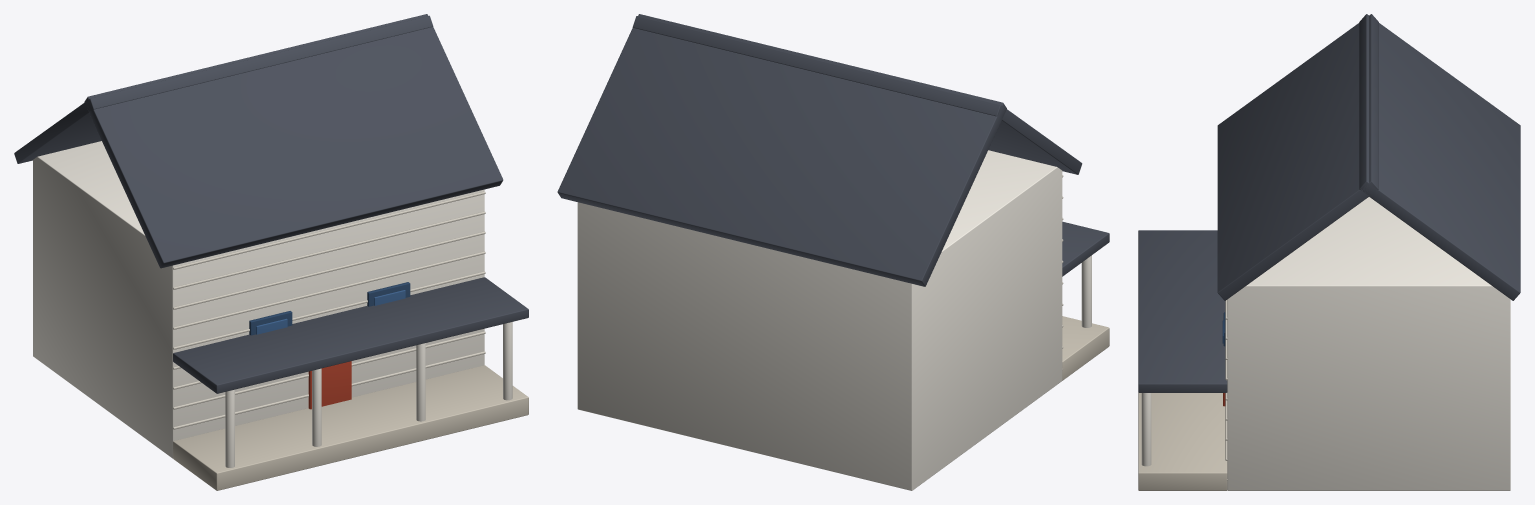
The model's file is rg_eua_2.glb.
3 views of the same model, side by side, from view 1: azimuth 30°, elevation 25°; view 2: azimuth 150°, elevation 25°; view 3: azimuth 270°, elevation 25° (orthographic). The views are drawn at different scales.
Parts seen in each view (by area): view 1: rg_eua_2; view 2: rg_eua_2; view 3: rg_eua_2.
Boxes of the visible parts, x1=… form: rg_eua_2: x1=14, y1=14, x2=528, y2=490; rg_eua_2: x1=557, y1=14, x2=1109, y2=490; rg_eua_2: x1=1138, y1=14, x2=1520, y2=490.
Bounding box in the file's own units: 9.8 × 8.63 × 9.44.
